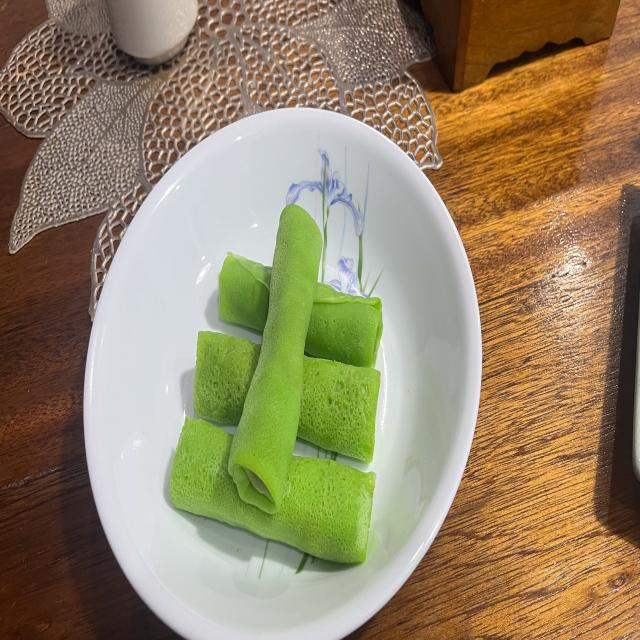Kuih-Ketayap: (170, 418, 375, 562), (229, 204, 322, 513), (298, 356, 380, 462), (305, 282, 382, 367), (194, 331, 261, 424), (219, 253, 271, 331)
